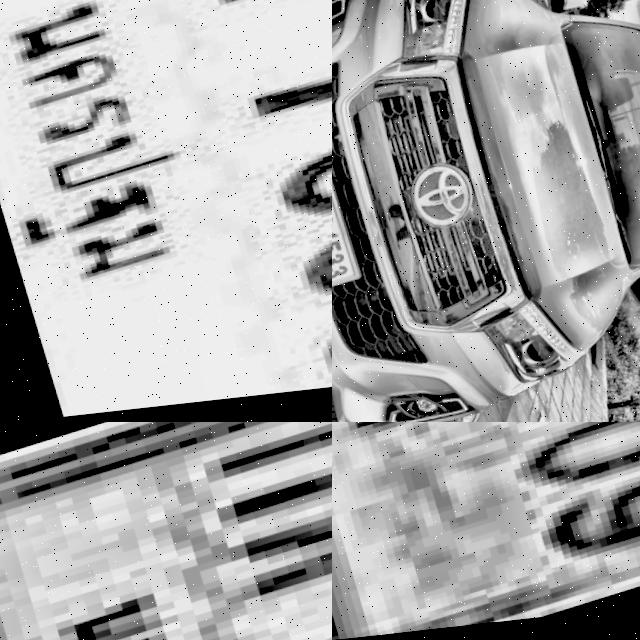license-plate: (0, 0, 332, 422), (0, 422, 332, 640), (332, 422, 640, 640), (332, 170, 355, 304)
